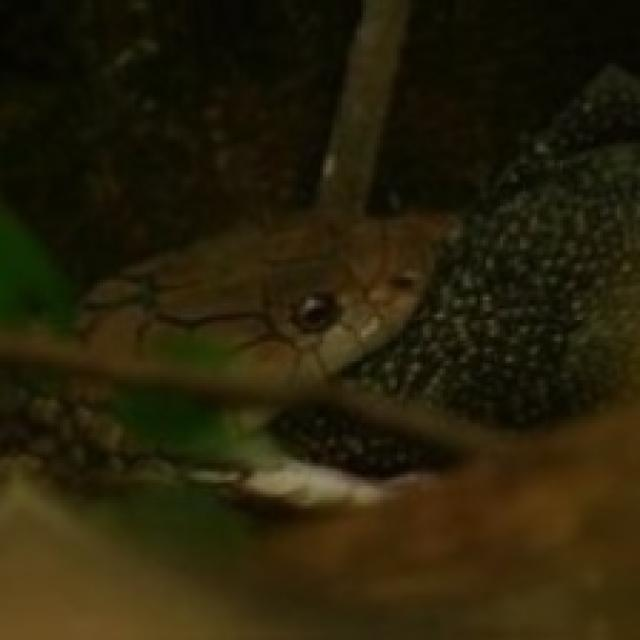king cobra: (0, 0, 637, 423), (0, 363, 451, 503)
